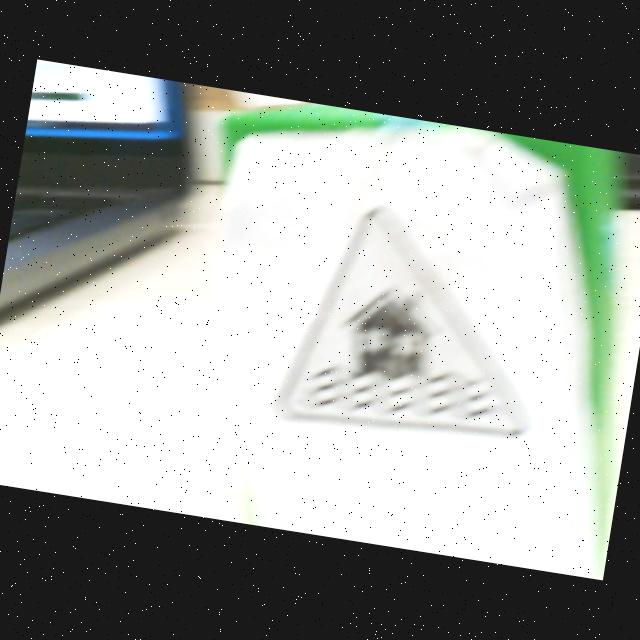Tsunami: (276, 207, 529, 436)
